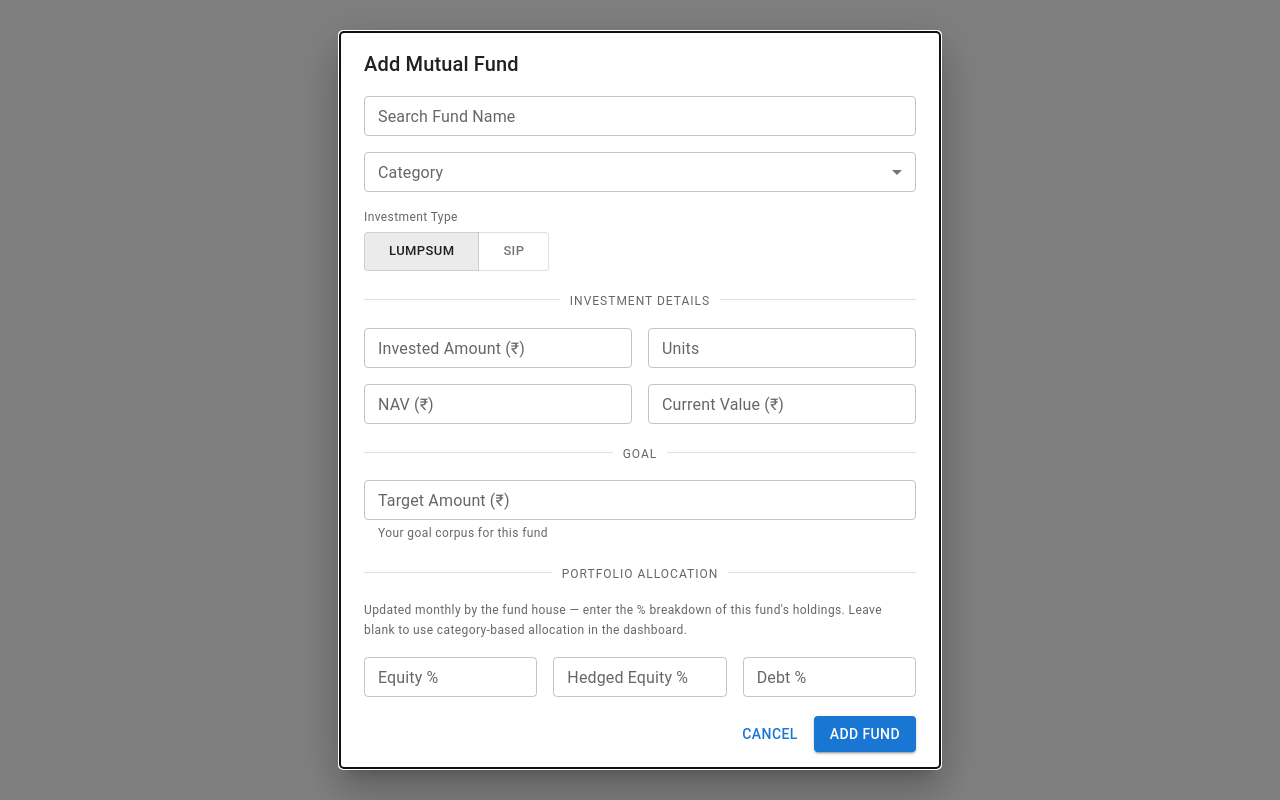
Mutual funds Components › Mutual Fund Modal form interactions › Calculate SIP Returns button is disabled when no scheme selected (covers isSipReady branch)
Click the button "SIP" at {"x": 514, "y": 251}, box [478,232,549,271]
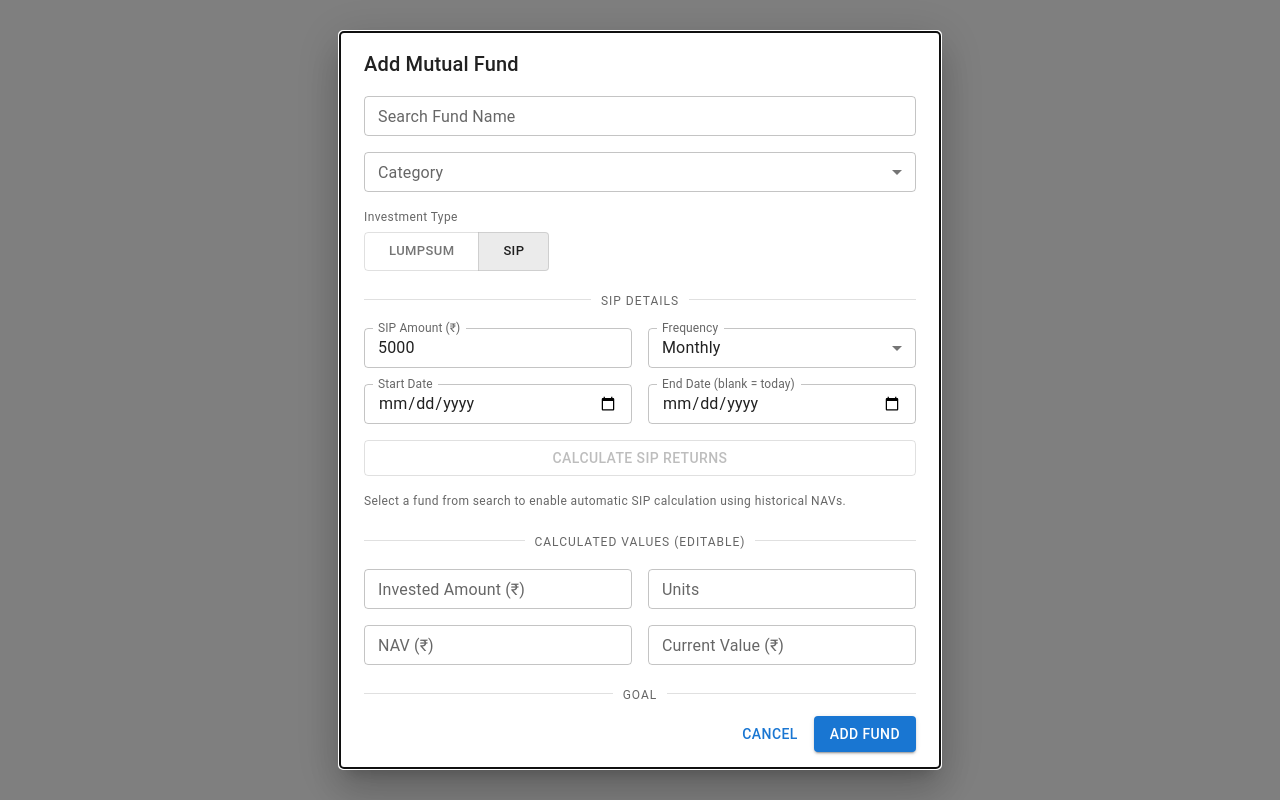
Expected: the button "Calculate SIP Returns" is disabled, [364,440,916,476]
Expected: the text "Select a fund from search to enable automatic SIP calculation" is shown, [364,494,846,508]
